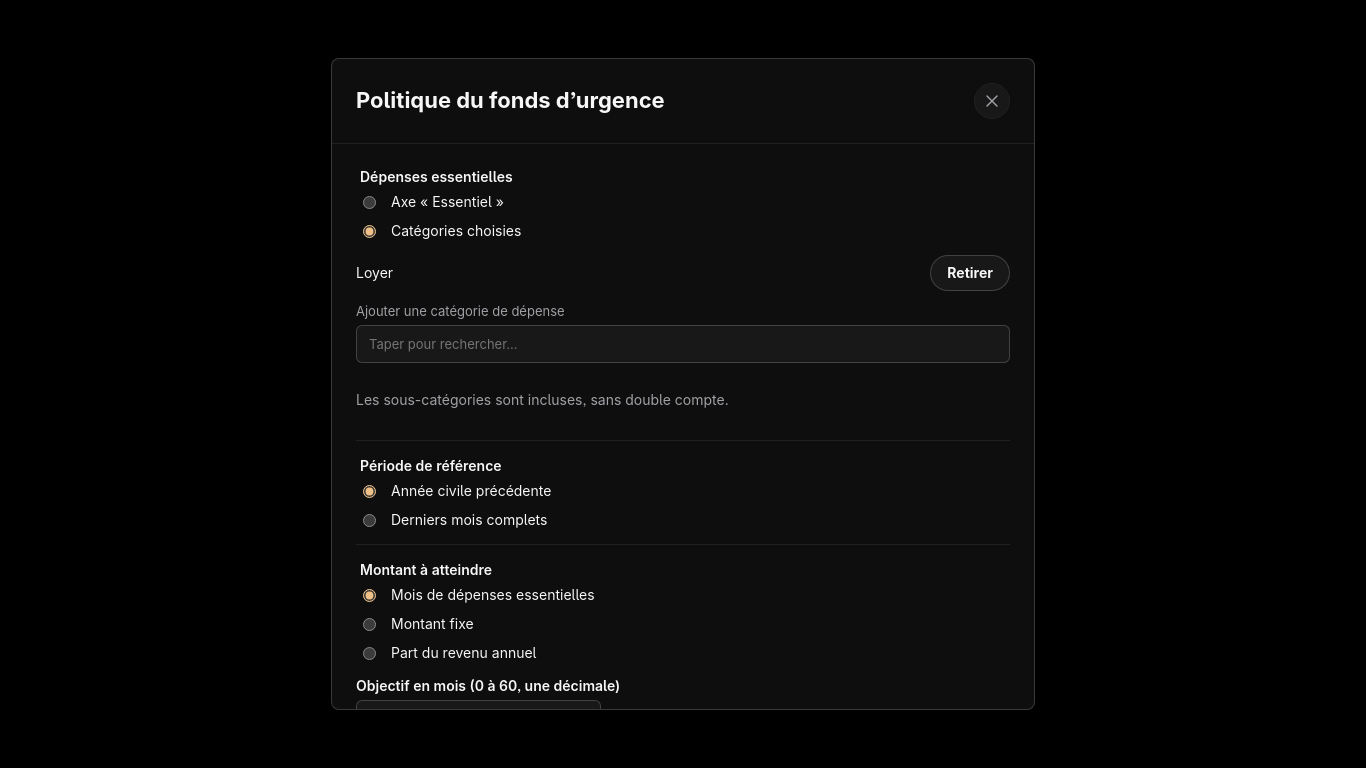
EmergencyFundPolicyModal › lists the saved categories and lets one be removed
Check: the text "Loyer" is shown, box x1=356 y1=264 x2=393 y2=281
Click the button with aria-label "Retirer Loyer".
click(970, 273)  # box x1=930 y1=255 x2=1010 y2=291
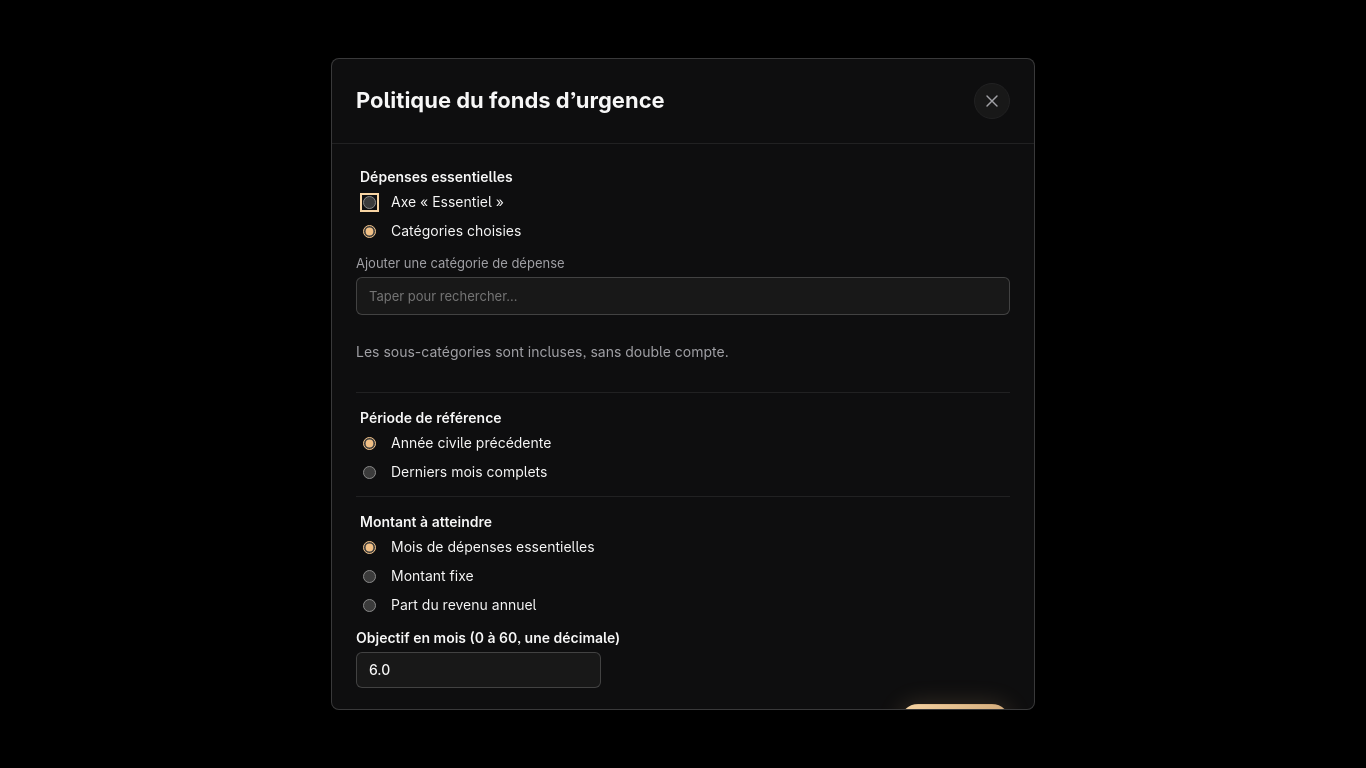
Check: the text "Loyer" is gone
